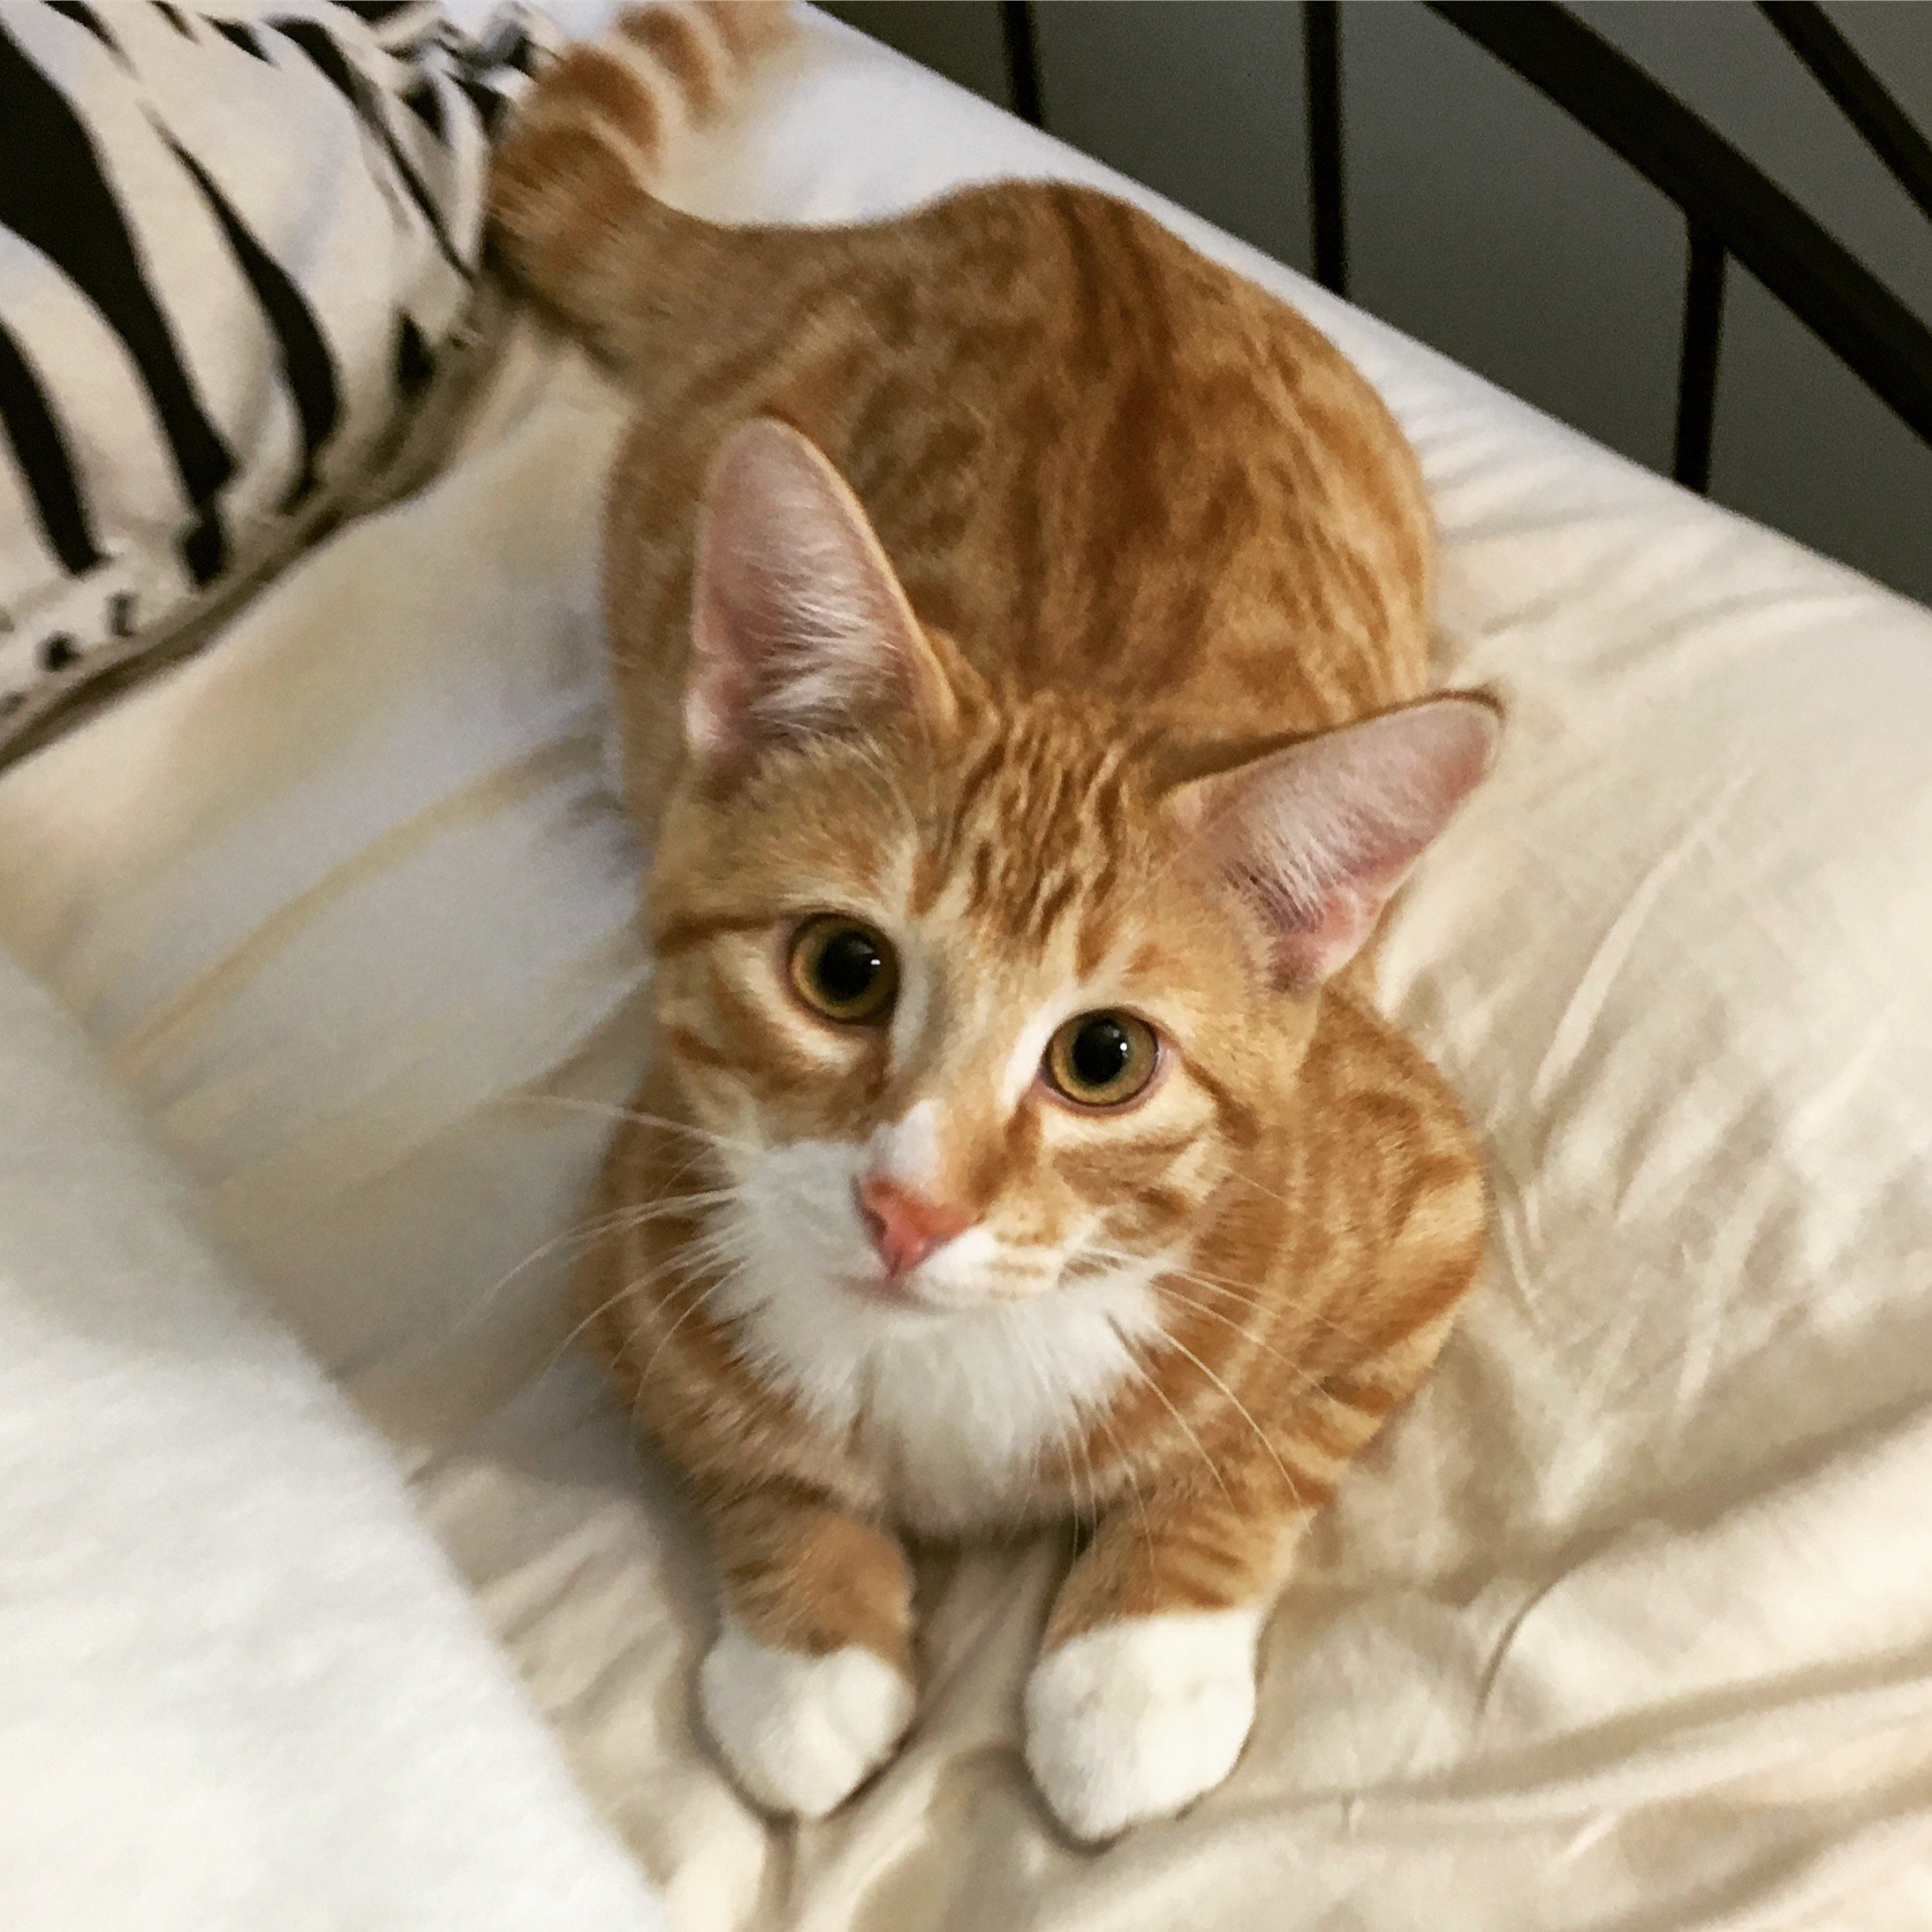cat: (465, 51, 1603, 1902)
